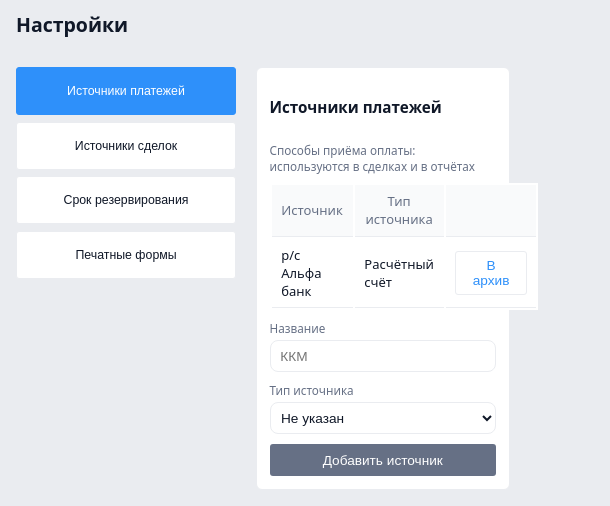
источники платежей › архивная строка серая с плашкой и уходит из активных, обратно — по кнопке
This screenshot has width=610, height=506.
Check: the text "р/с Альфа банк" is shown, box [272,238,352,308]
Click the button "В архив": click(491, 273) [455,251,527,295]
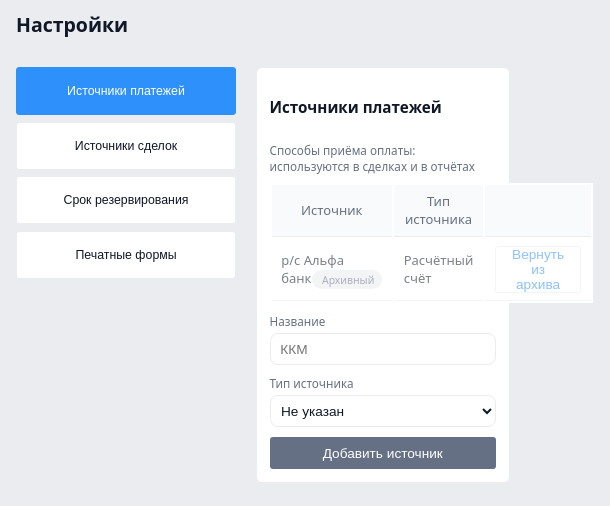
Check: the text "Архивный" is shown, box [312,270,382,289]
Check: the button "Вернуть из архива" is shown
Click the button "Вернуть из архива": click(538, 269) [495,246,581,293]
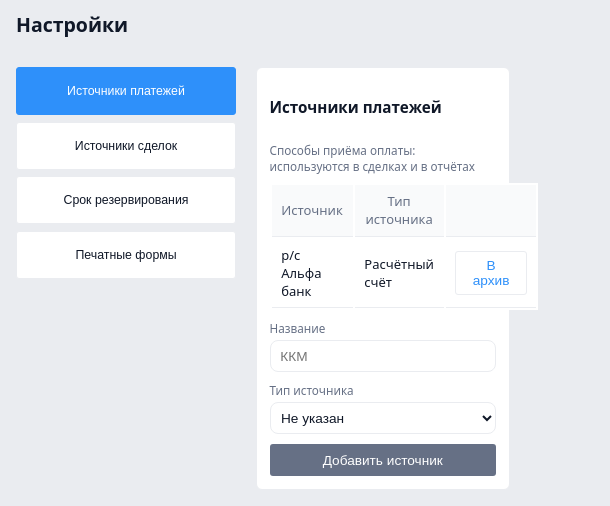
Check: the button "В архив" is shown, box [455,251,527,295]
